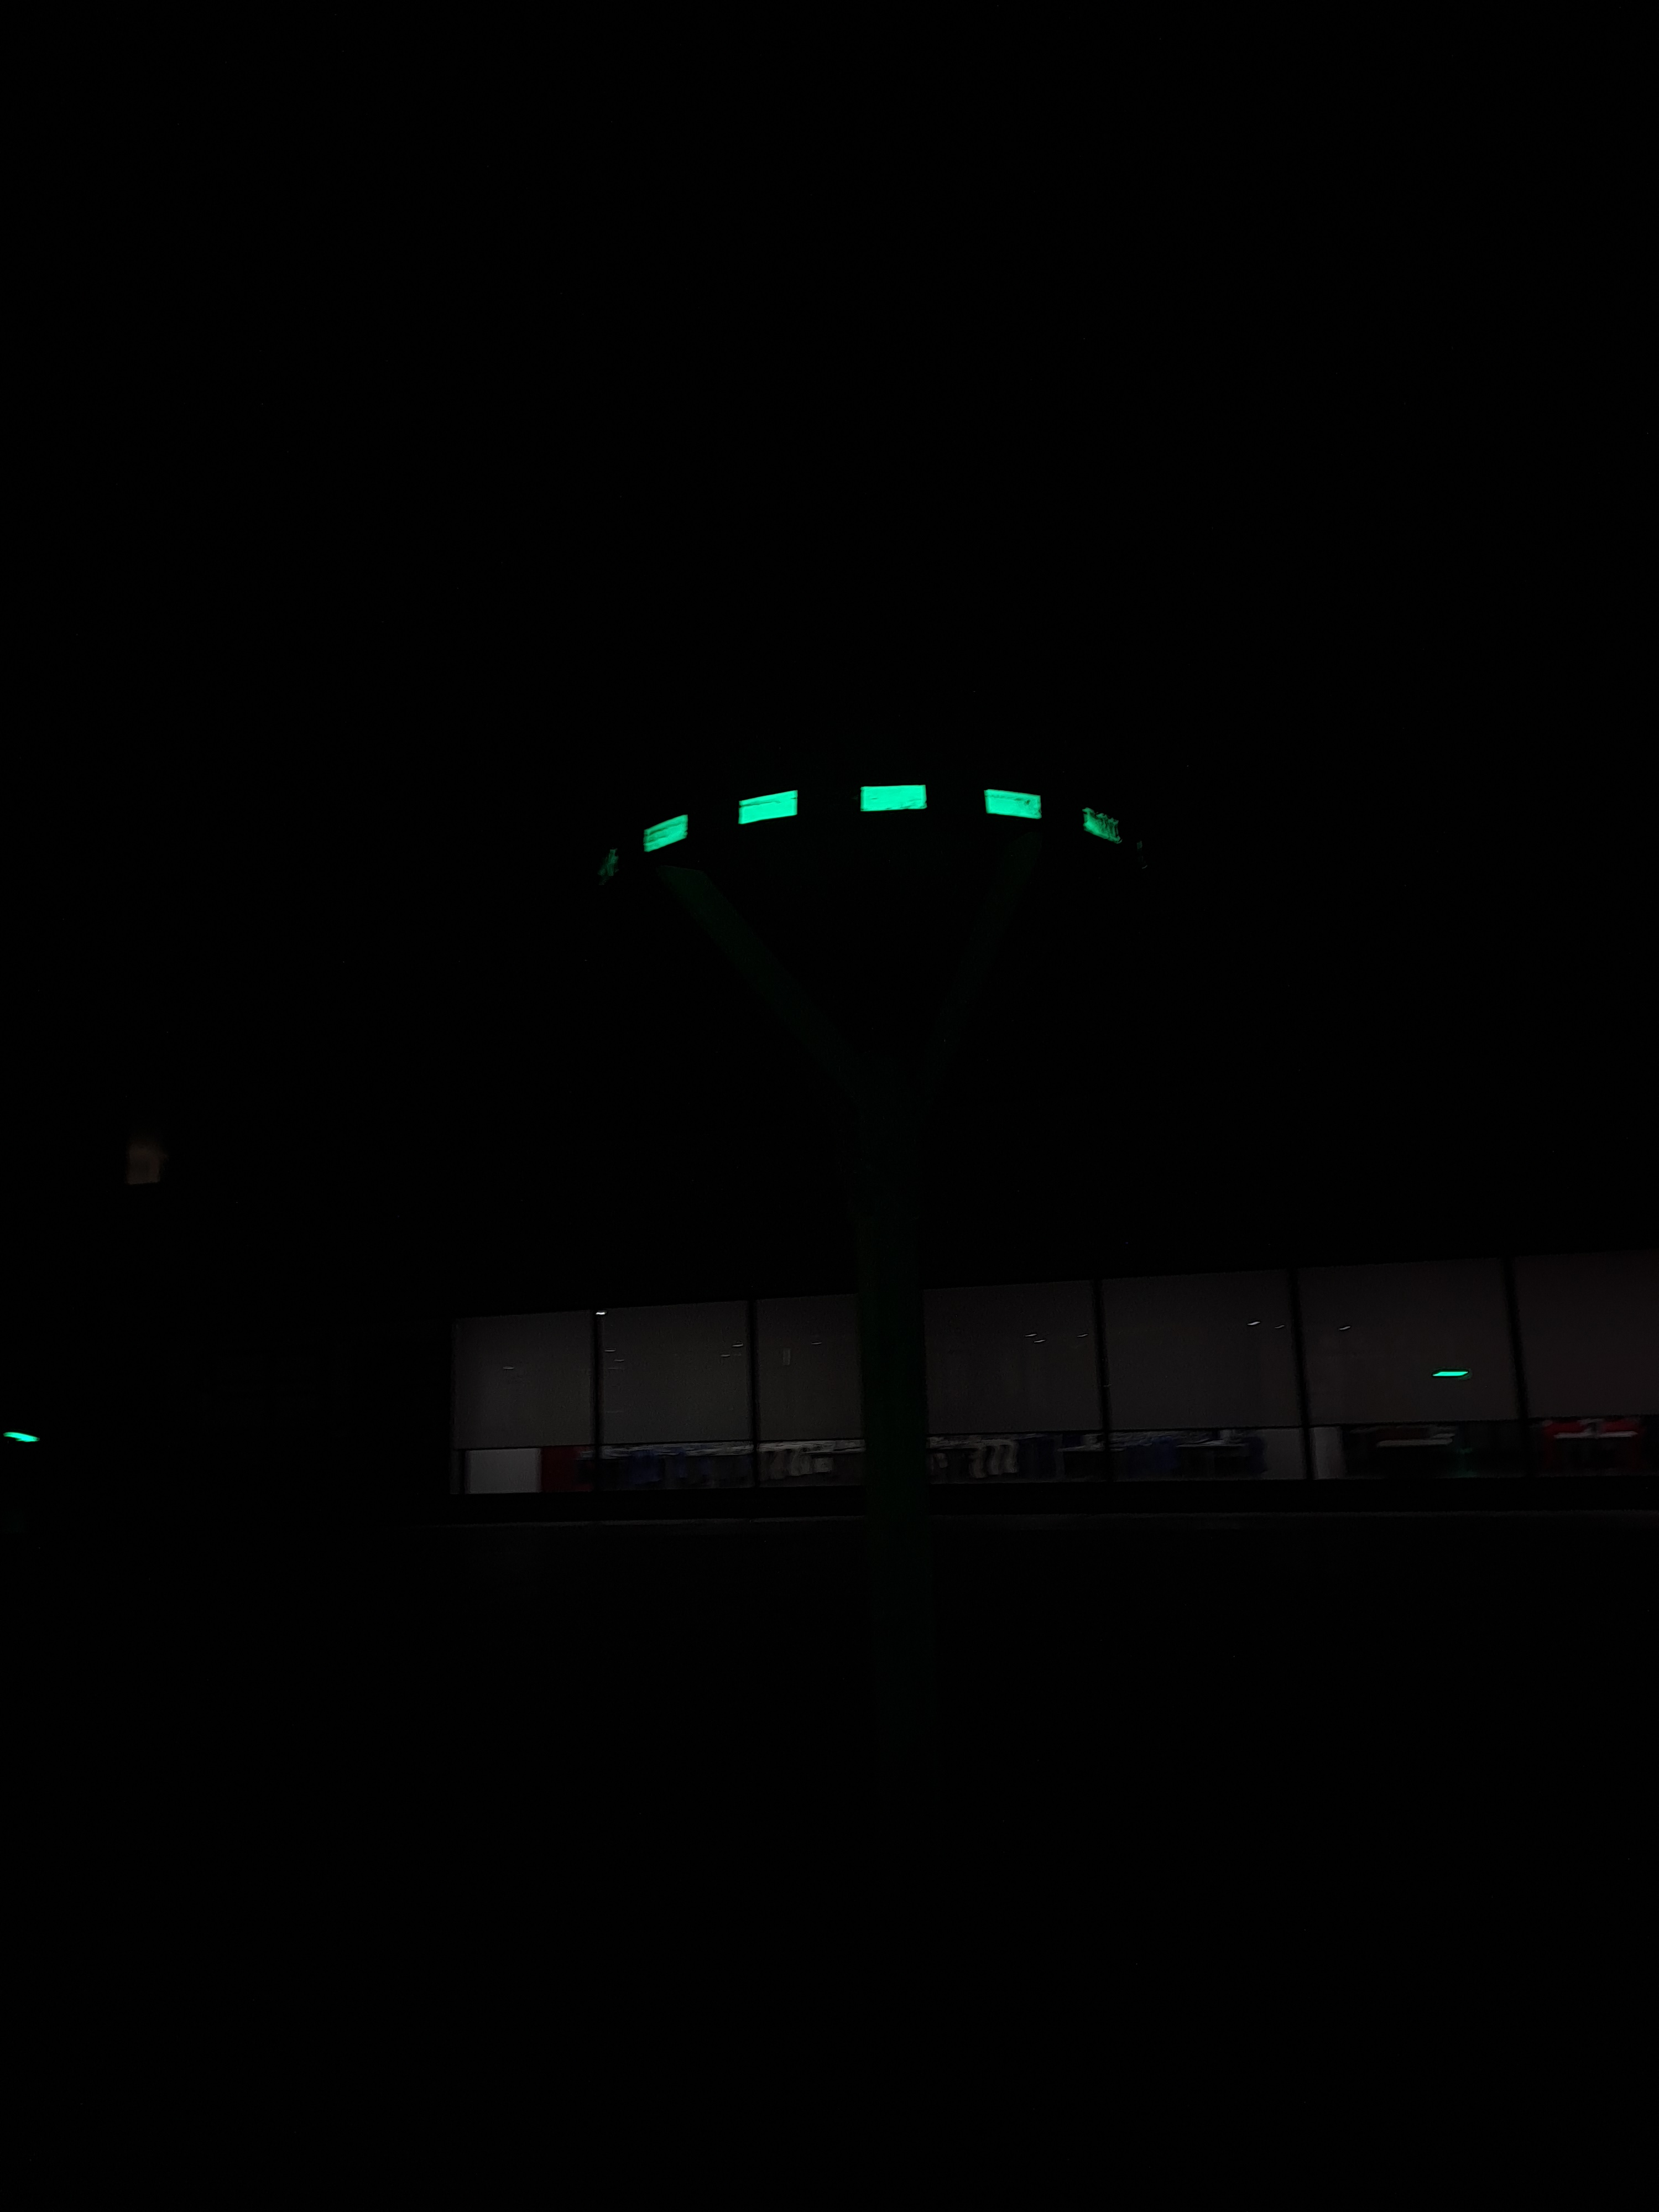hoop: (626, 782, 1131, 853)
